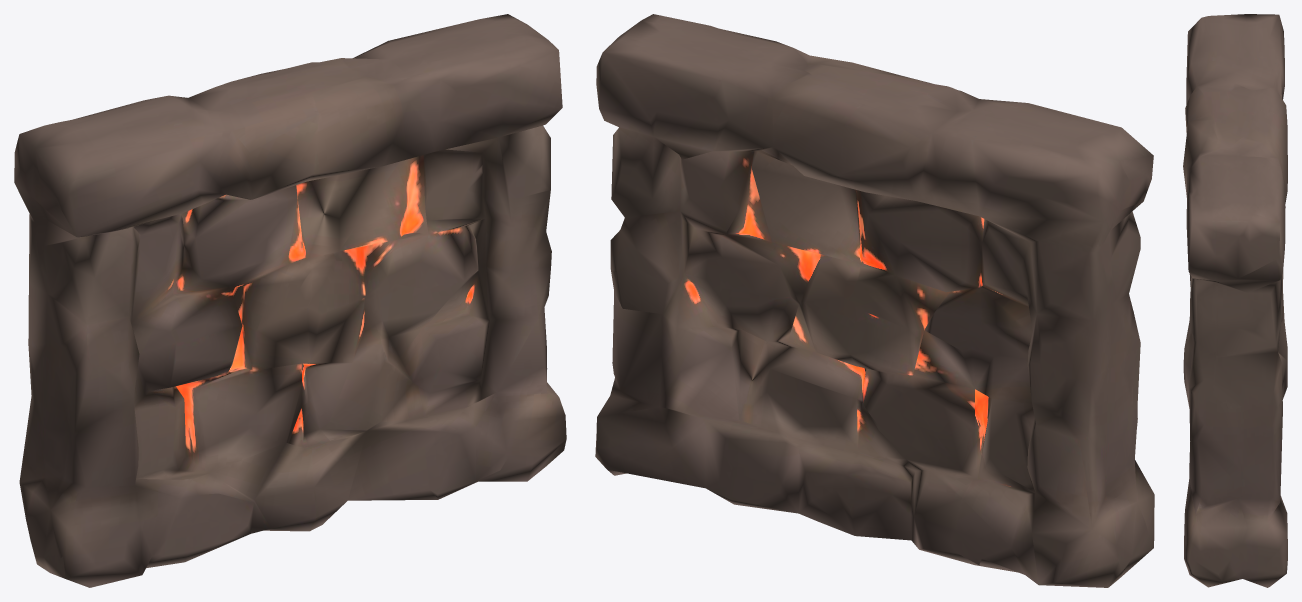
The model's file is fg_wall-DN9bRVYK.glb.
The picture shows the model from 3 angles, left to right: view 1: azimuth 30°, elevation 25°; view 2: azimuth 150°, elevation 25°; view 3: azimuth 270°, elevation 25°; orthographic projection. The views are drawn at different scales.
Parts seen in each view (by area): view 1: tripo_node_7c3b6dbc-d26e-40c3-bfea-aab21c035dcc; view 2: tripo_node_7c3b6dbc-d26e-40c3-bfea-aab21c035dcc; view 3: tripo_node_7c3b6dbc-d26e-40c3-bfea-aab21c035dcc.
Part boxes in pixels (x1,y1,x2,y2): tripo_node_7c3b6dbc-d26e-40c3-bfea-aab21c035dcc: [14, 14, 566, 587]; tripo_node_7c3b6dbc-d26e-40c3-bfea-aab21c035dcc: [595, 14, 1154, 587]; tripo_node_7c3b6dbc-d26e-40c3-bfea-aab21c035dcc: [1183, 14, 1287, 587].
Bounding box in the file's own units: 4.9 × 4.01 × 1.02.
1 material, 1 textured.
